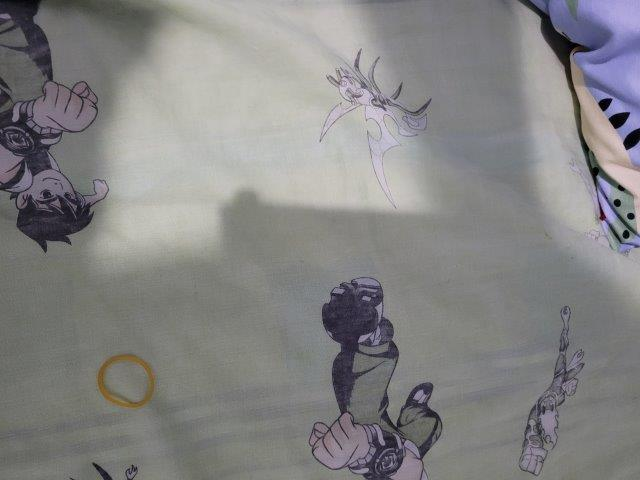karet: (98, 354, 156, 410)
